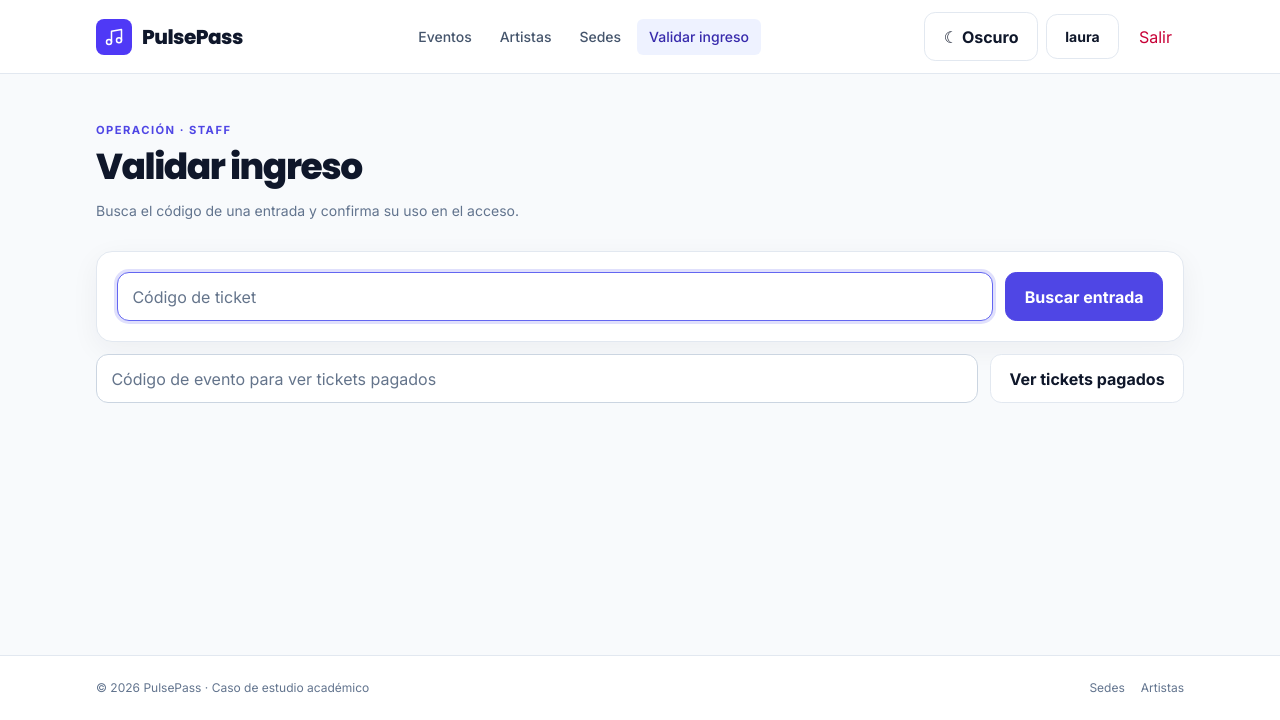
Test case: STAFF: validación de ingreso › un código vacío no consulta la API
Click the button "Buscar entrada" at (1084, 297), box [1005,272,1163,321]
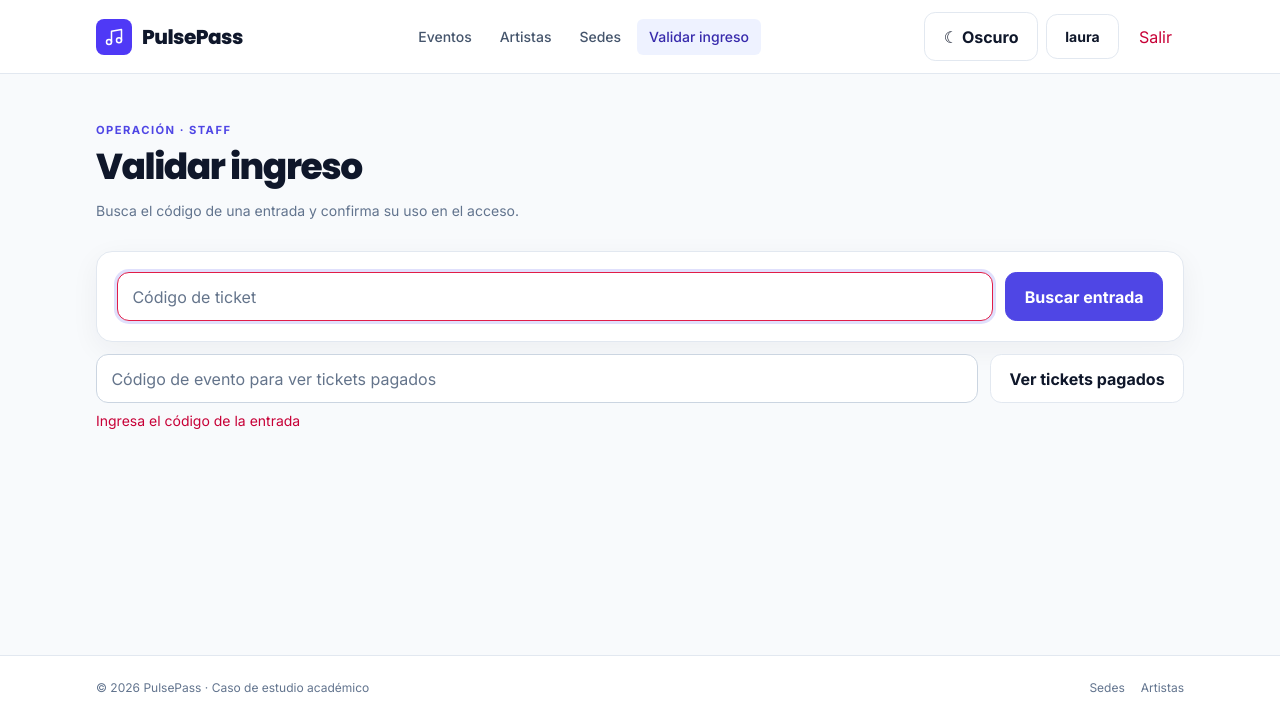
expect the text "Ingresa el código de la entrada" is shown: met, box [96,412,300,429]
